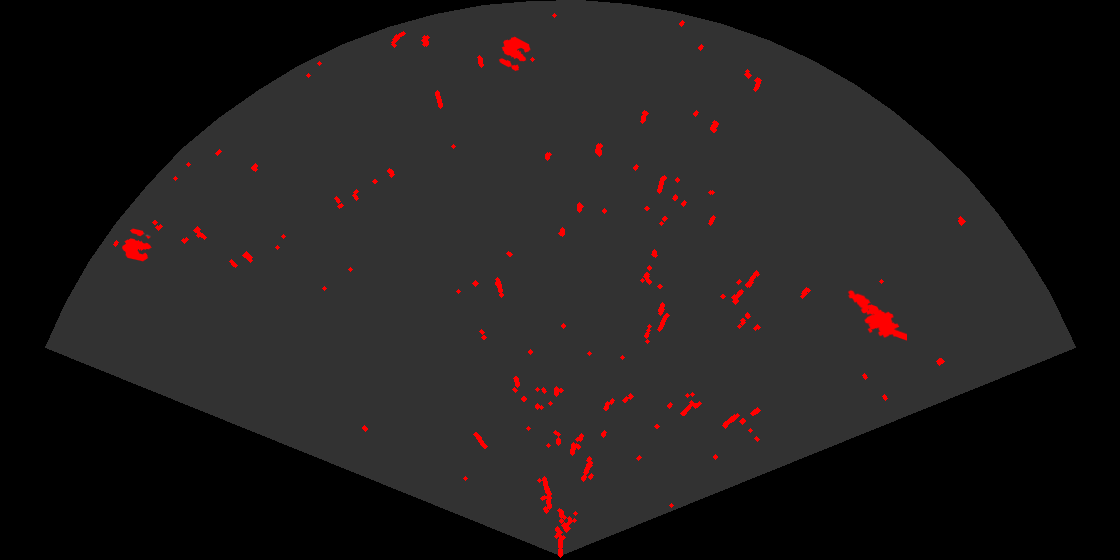ball: (498, 35, 532, 73), (120, 227, 153, 263)
frogman: (846, 288, 907, 342)
